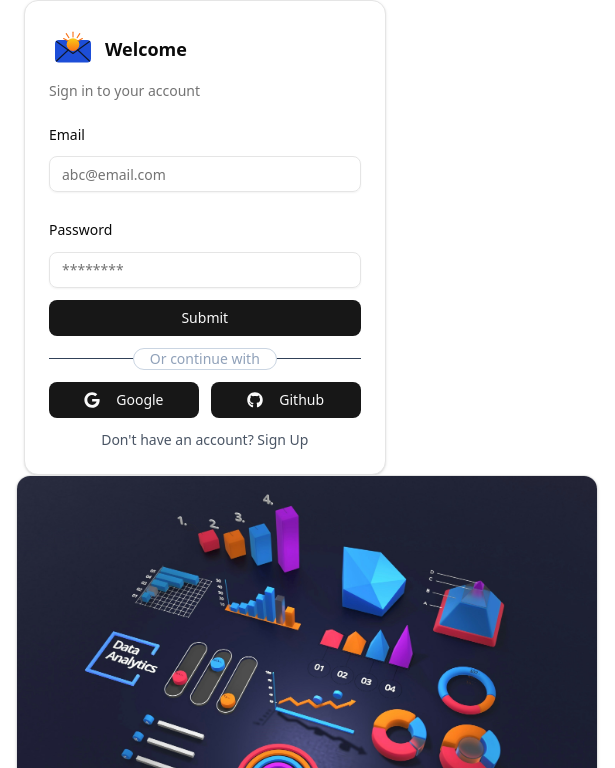
Test: SignIn Page › SignIn Component - Form Submission › shows error message for invalid password
In the field labelled "Email": {"x": 205, "y": 174} [49,156,361,192], type "test@example.com"
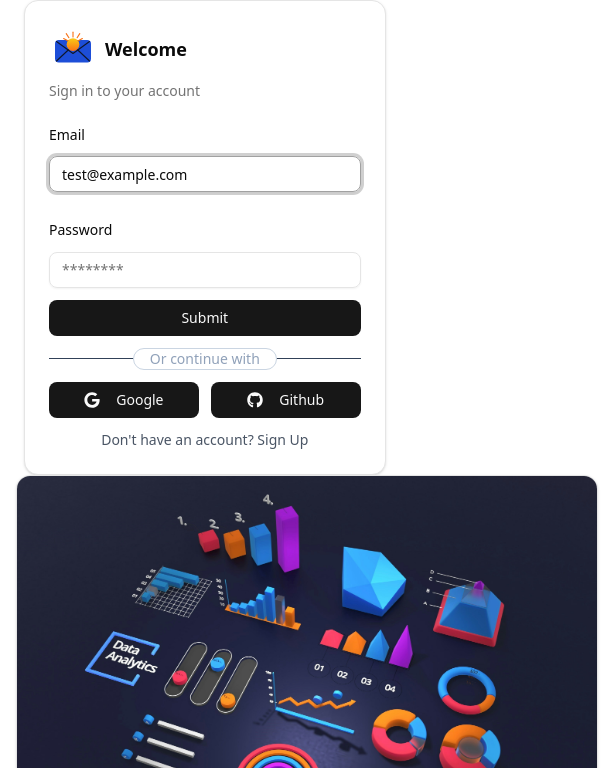
In the field labelled "Password": {"x": 205, "y": 270} [49,252,361,288], type "validpassword"
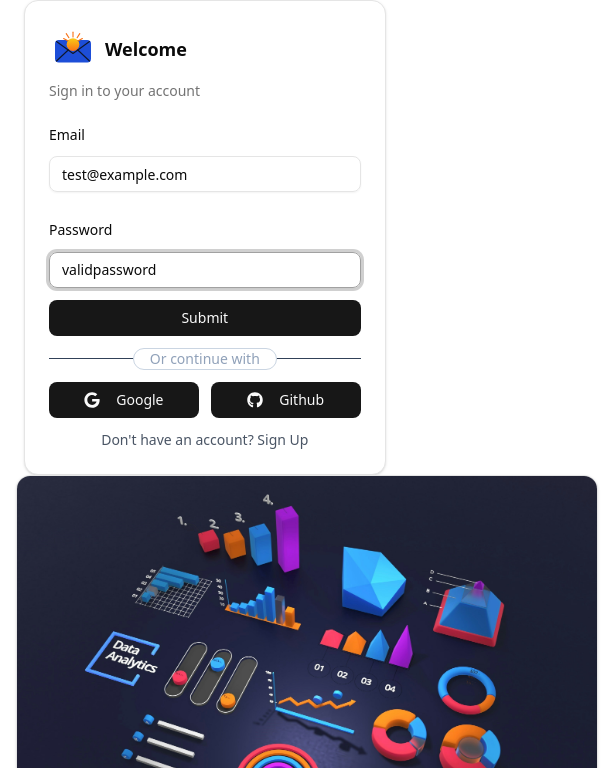
Click the button "Submit": {"x": 205, "y": 318} [49,300,361,336]
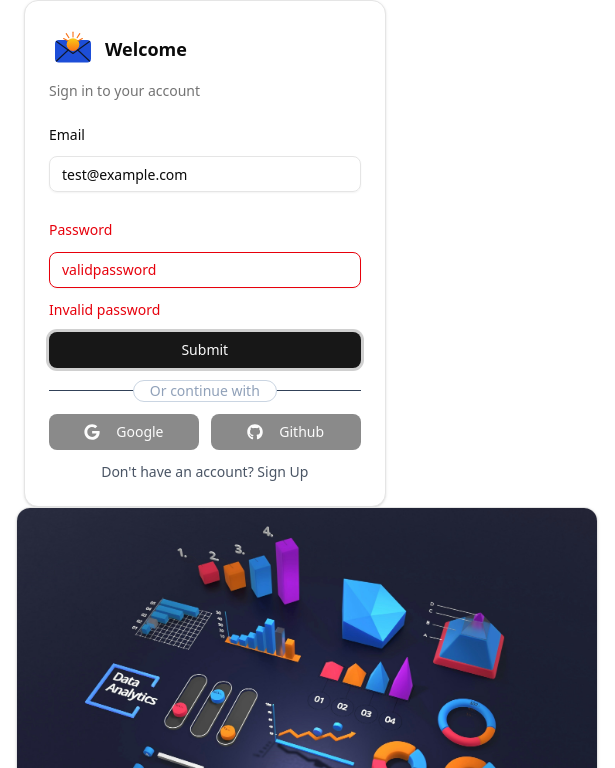
Expected: the text "Invalid password" is shown, [49,300,160,318]
